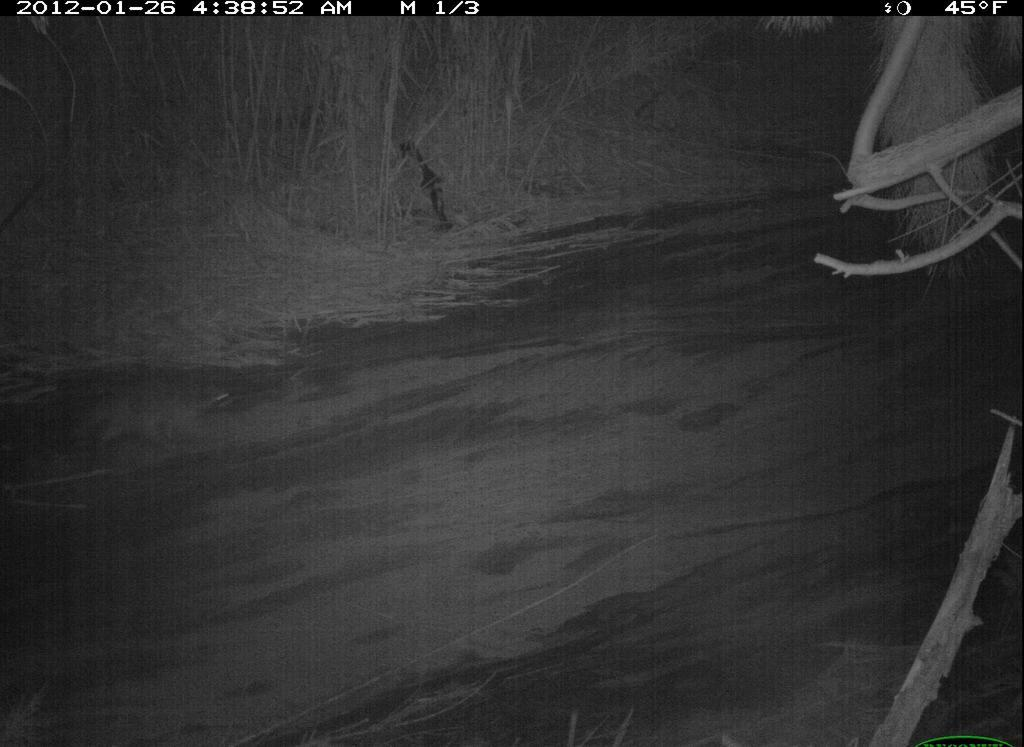raccoon: (66, 372, 242, 469)
